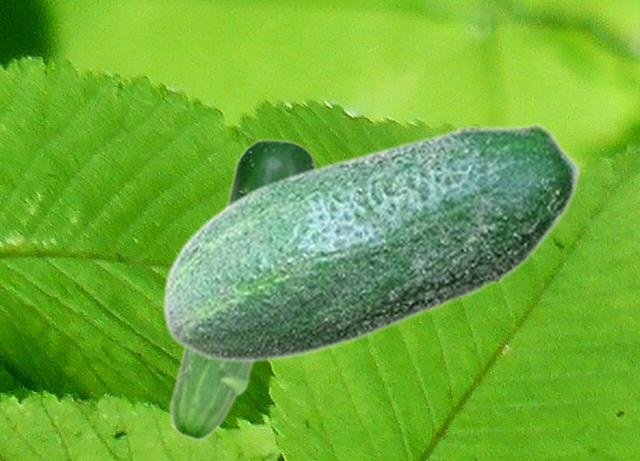cucumber: (161, 122, 581, 362), (167, 138, 317, 440)
